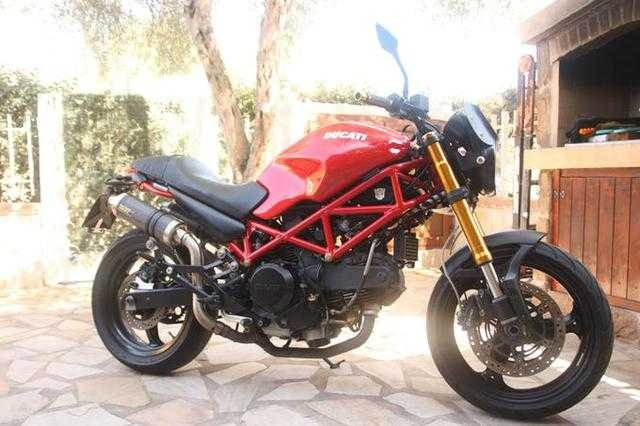motorbike: (80, 21, 614, 420)
